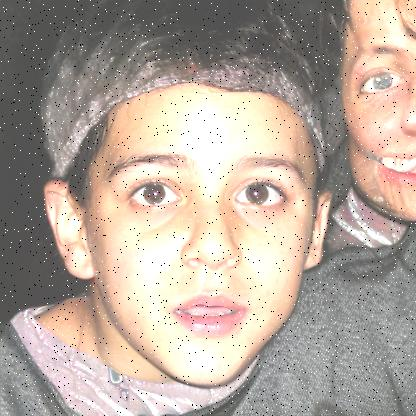eyeee: (119, 174, 190, 207), (228, 176, 298, 209), (355, 62, 406, 101)
mouthhz: (169, 291, 249, 343), (376, 151, 416, 184)
nosebb: (180, 194, 242, 275)
